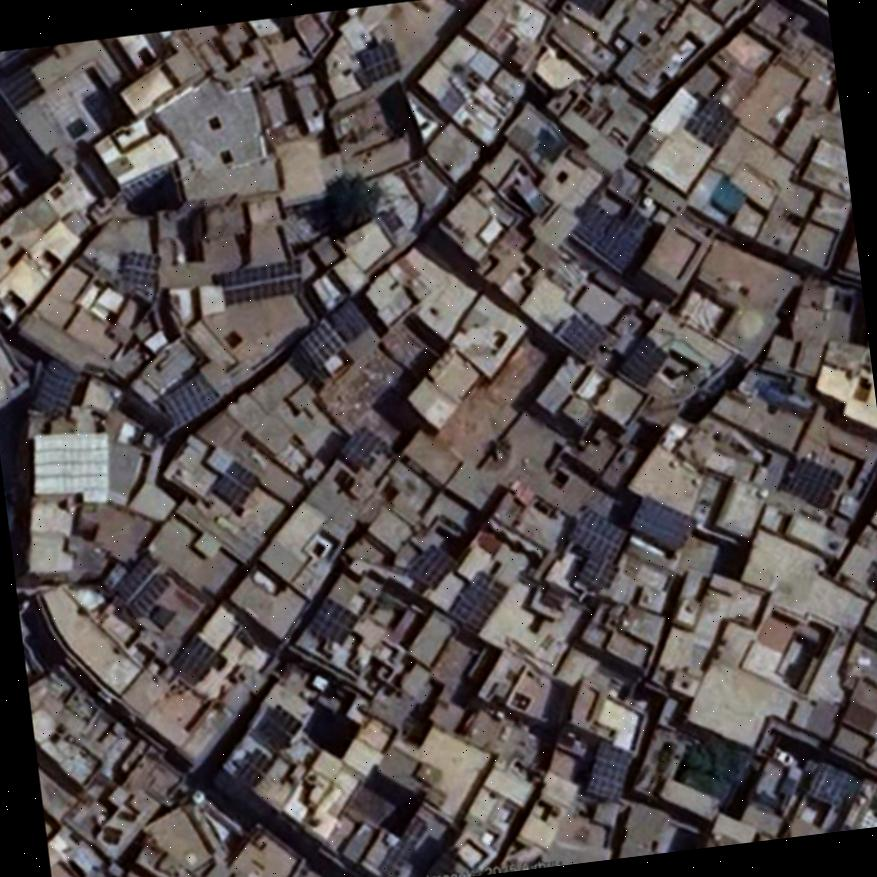Solarpanel: (574, 191, 652, 271), (221, 257, 300, 306), (629, 495, 695, 551), (164, 372, 222, 427), (784, 456, 841, 510), (297, 316, 348, 370), (568, 510, 623, 560), (616, 336, 668, 387), (307, 595, 359, 645), (588, 741, 632, 800), (34, 357, 80, 413), (174, 636, 219, 687), (212, 460, 260, 507), (250, 707, 302, 750), (409, 545, 457, 589), (112, 554, 159, 598), (340, 426, 386, 469), (557, 316, 605, 356), (356, 39, 402, 79), (578, 552, 619, 591), (235, 748, 274, 788), (120, 249, 159, 287), (132, 574, 169, 612)
